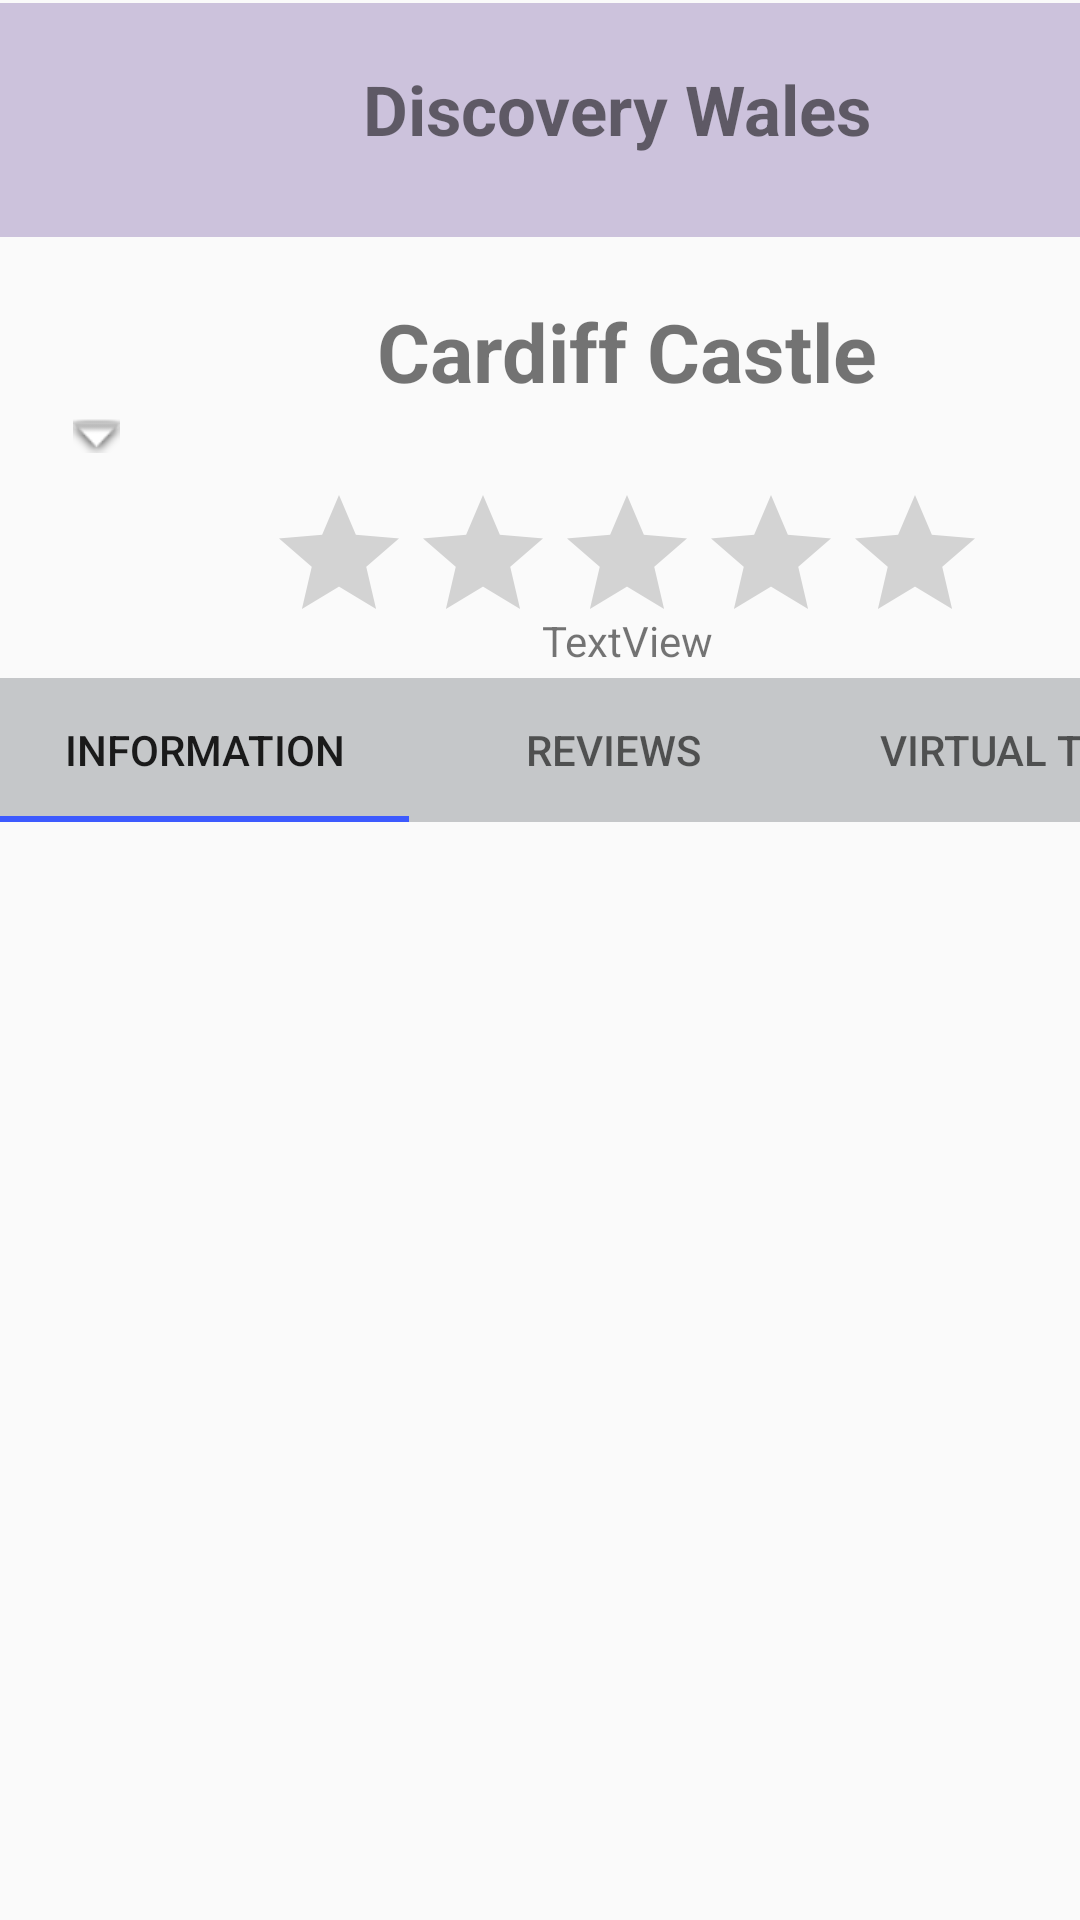

Where to tap for icons on this 1080*1920 app screen, as point (x, y):
arrow down float: point (96, 436)
